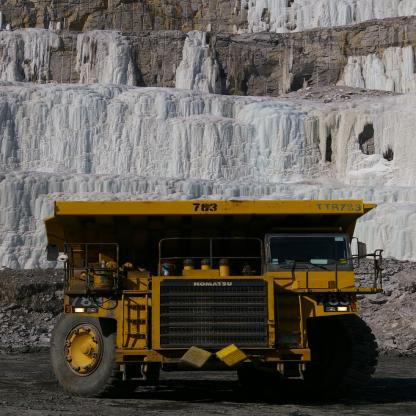dump_truck: (36, 194, 388, 400)
